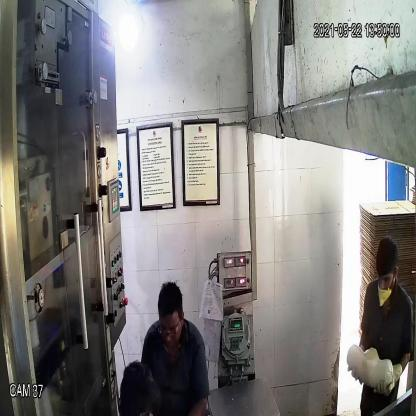goggles: (156, 321, 182, 342)
